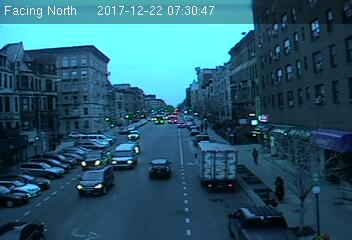car: (77, 167, 116, 198), (146, 157, 172, 179), (81, 150, 109, 169), (127, 129, 141, 139)
truck: (195, 142, 238, 192), (111, 143, 138, 169)
